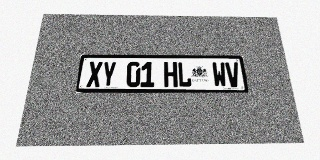0: (126, 62, 141, 87)
1: (140, 62, 154, 87)
H: (164, 62, 178, 87)
L: (177, 62, 192, 87)
V: (225, 62, 241, 87)
W: (212, 62, 227, 87)
X: (86, 61, 103, 87)
Y: (101, 61, 117, 87)
